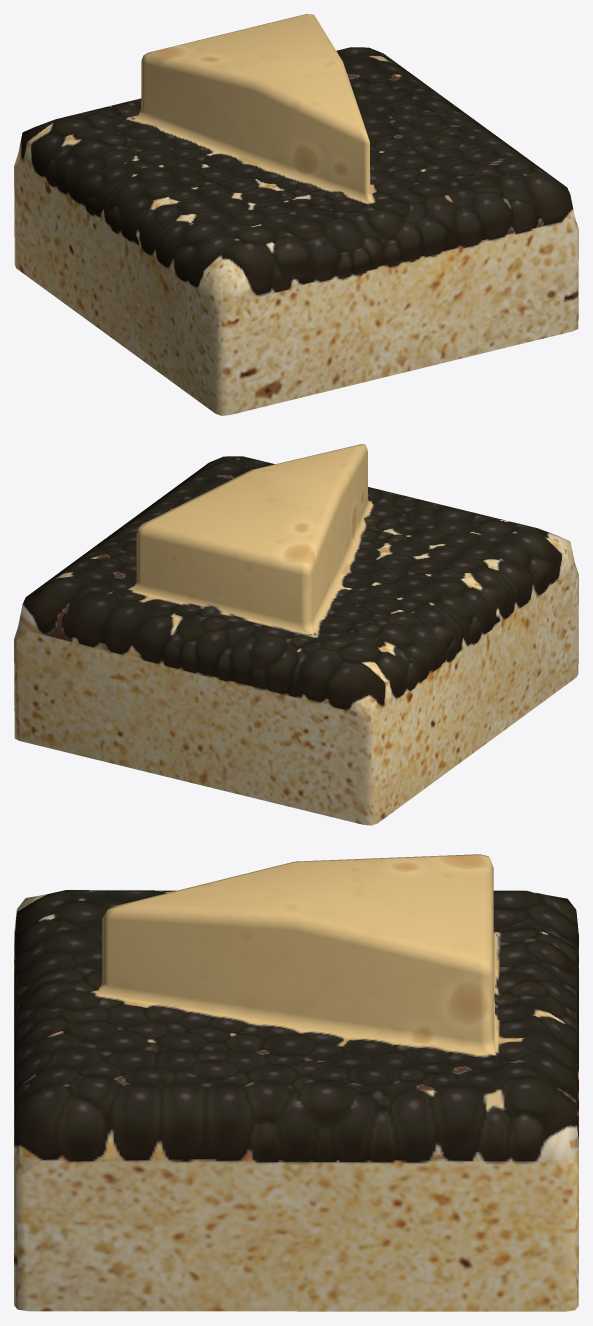
File: BuffetSnacks03_5.FBX
3 views of the same model, one above another, from view 1: azimuth 30°, elevation 25°; view 2: azimuth 150°, elevation 25°; view 3: azimuth 270°, elevation 25° (orthographic). The views are drawn at different scales.
Visible parts, largest first — view 1: BuffetSnacks03_5; view 2: BuffetSnacks03_5; view 3: BuffetSnacks03_5.
Part boxes in pixels (x1,y1,x2,y2): BuffetSnacks03_5: (14,14,578,415); BuffetSnacks03_5: (14,444,578,825); BuffetSnacks03_5: (14,854,578,1311).
Size of what is drawn, in the model's own units: 0.0899 by 0.054 by 0.0902.
